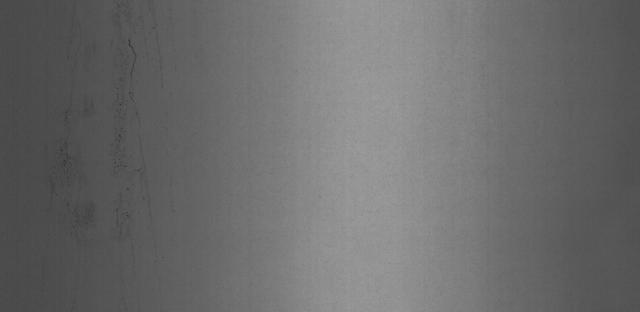inclusion: (47, 32, 94, 244)
water_spot: (104, 7, 166, 238)
